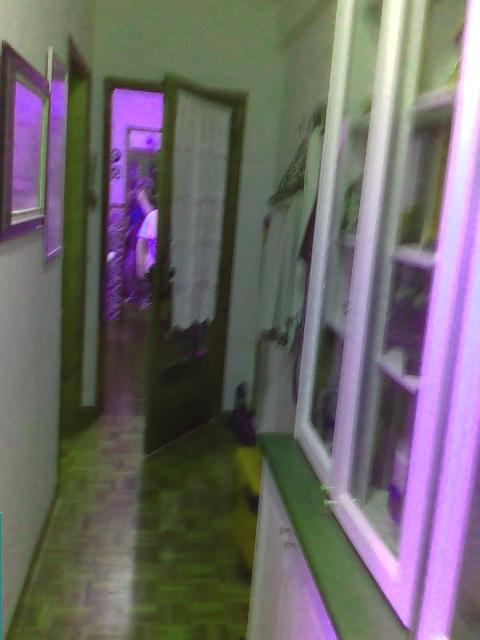semi_door: (96, 67, 250, 456)
